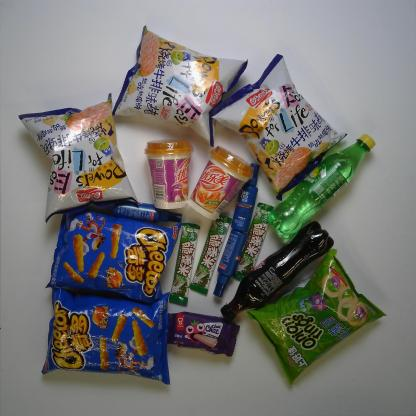Chocolate: (188, 213, 235, 295), (234, 202, 275, 282), (166, 221, 202, 309)
Dessert: (165, 310, 242, 358)
Drink: (268, 132, 376, 244), (219, 220, 336, 322)
Instant Drink: (187, 145, 255, 222), (142, 136, 193, 212)
Personal Hygiene: (213, 229, 249, 299), (232, 161, 262, 232), (114, 201, 183, 226)
Puffed Food: (211, 50, 348, 203), (246, 246, 386, 388), (112, 26, 250, 149), (18, 92, 138, 223), (44, 208, 182, 304), (40, 287, 172, 386)
